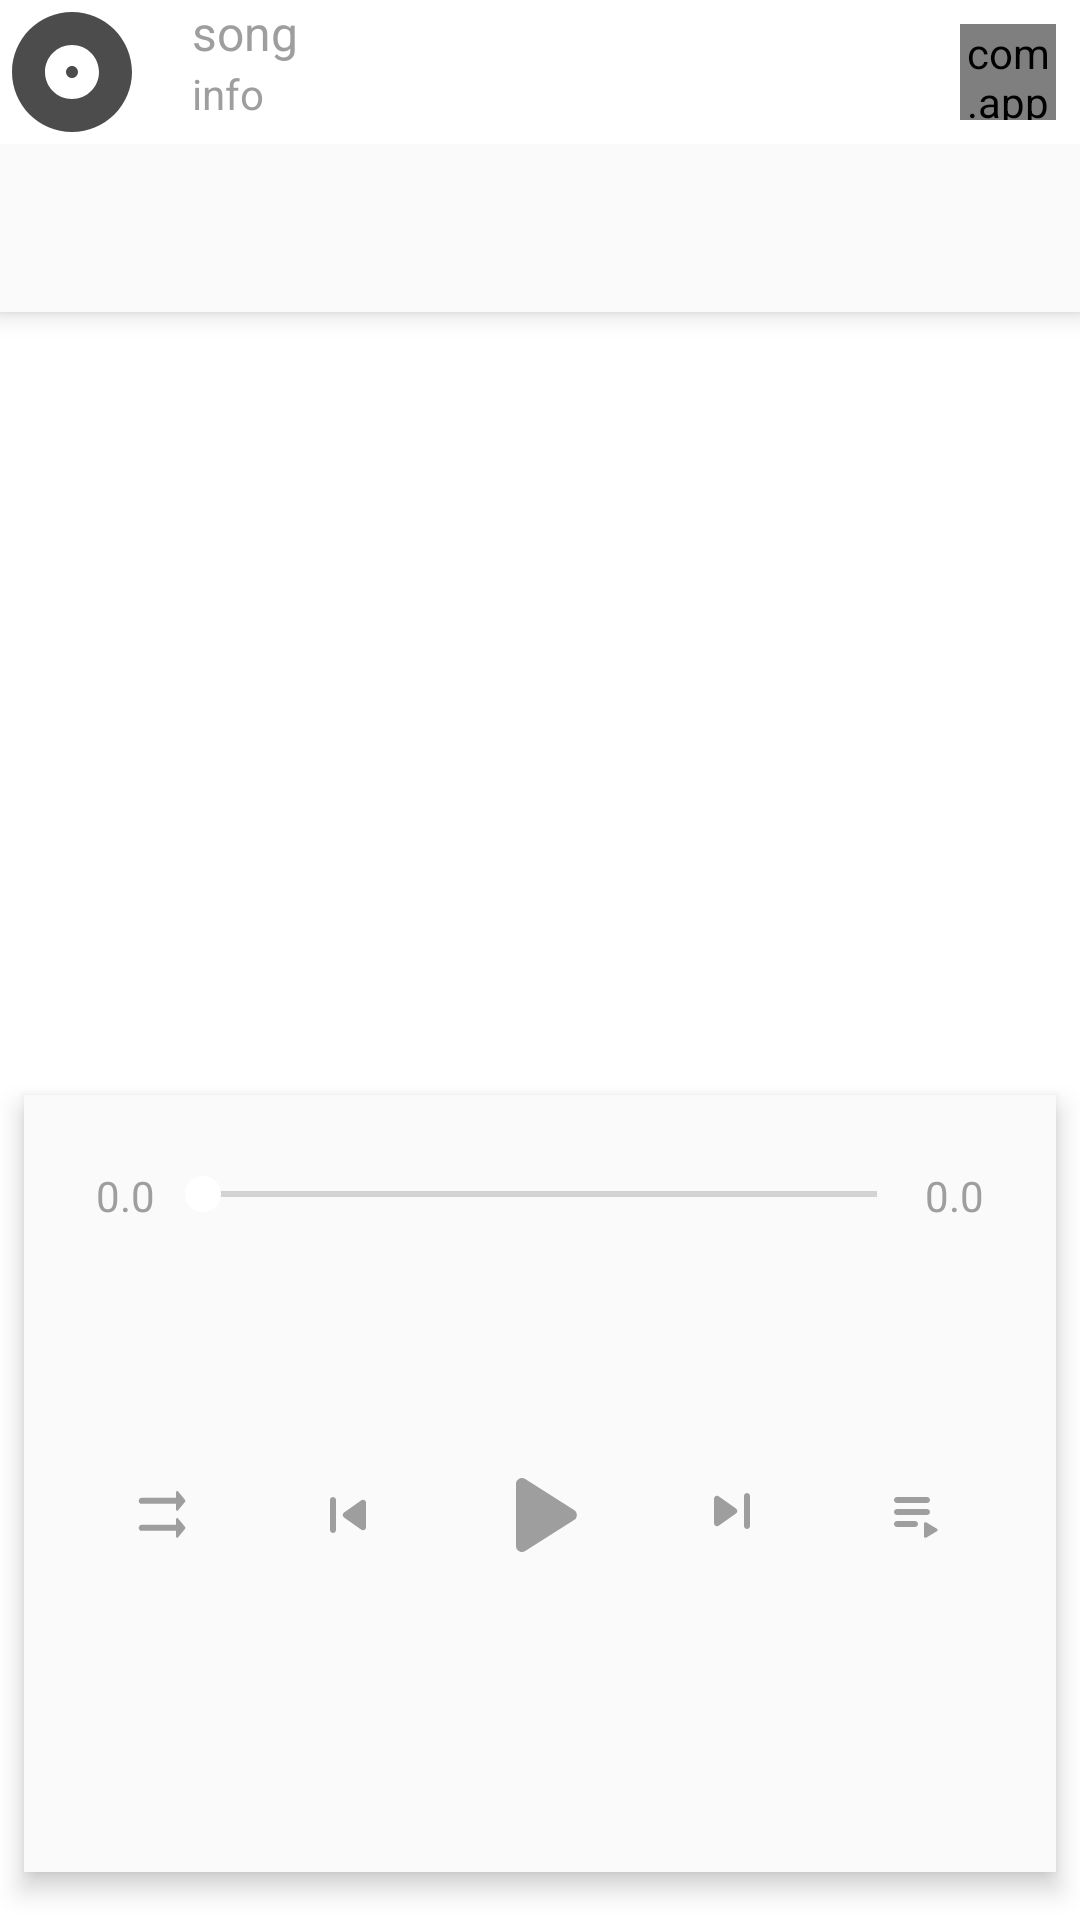

Where to tap for icons on this 1080px×1920px app screen, as point (x, y):
no repeat: point (162, 1514)
play arrow: point (546, 1515)
playlist play: point (916, 1517)
skip next: point (732, 1511)
skip previous: point (348, 1515)
专辑: point (72, 72)
